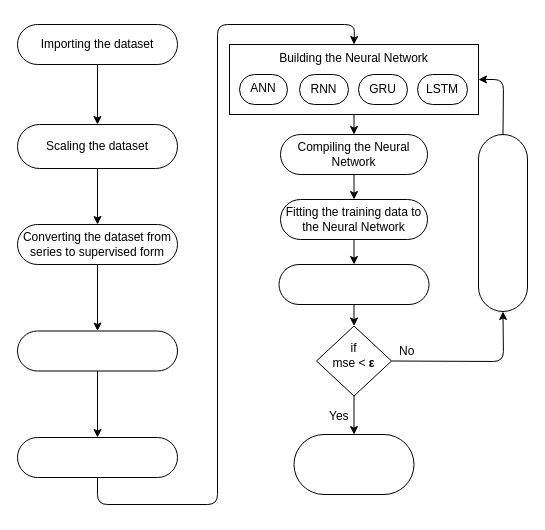
The diagram is 545 pixels wide and 530 high, and some of its shapes have lost their labels. Here are the shapes that lost their labels. From the top down, the centre of each, then its label:
the point at 503,223: Tuning the Hypermarameters
the point at 353,284: Evaluating the Network
the point at 97,350: Dividing the data into Training and Test Datasets
the point at 97,457: Initialize the Hyperparameters
the point at 353,464: Making Predictions with test data
